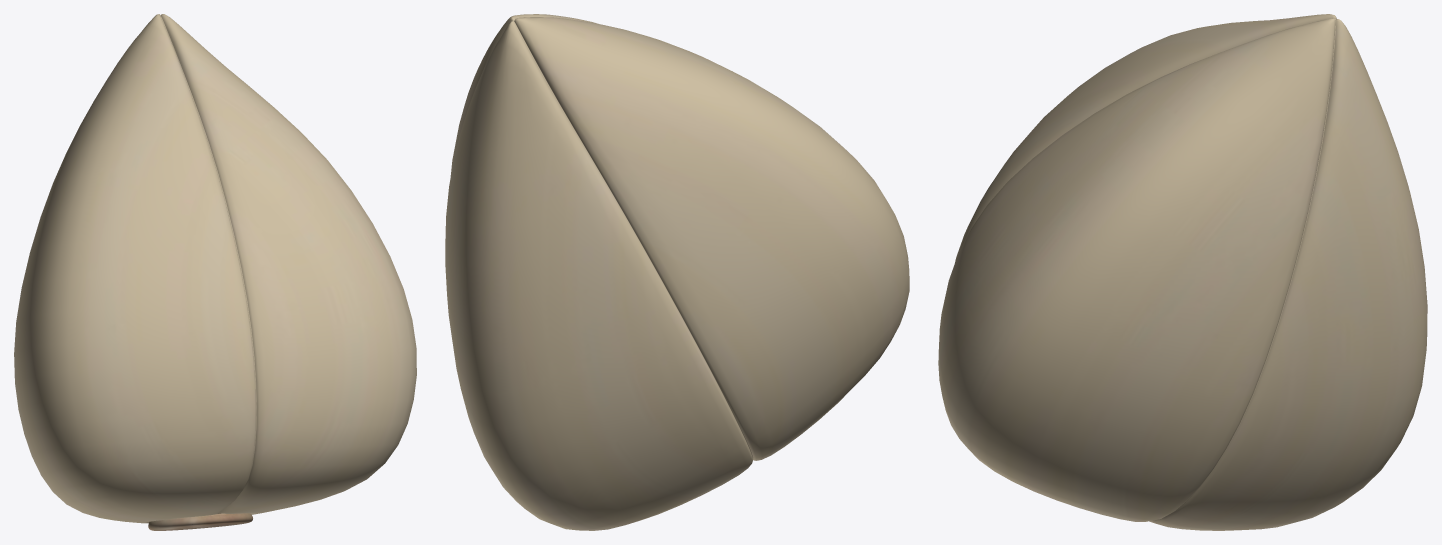
Rendered from GrainBuckwheat031.obj.
3 views of the same model, side by side, from view 1: azimuth 30°, elevation 25°; view 2: azimuth 150°, elevation 25°; view 3: azimuth 270°, elevation 25° (orthographic). The views are drawn at different scales.
Visible parts, largest first — view 1: GrainBuckwheat031; view 2: GrainBuckwheat031; view 3: GrainBuckwheat031.
Boxes of the visible parts, x1,y1,x2,y2 form: GrainBuckwheat031: (14,14,416,530); GrainBuckwheat031: (445,14,909,530); GrainBuckwheat031: (938,14,1427,530).
Bounding box in the file's own units: 0.0251 × 0.0314 × 0.0265.
Materials: 1 (1 with a texture image).
